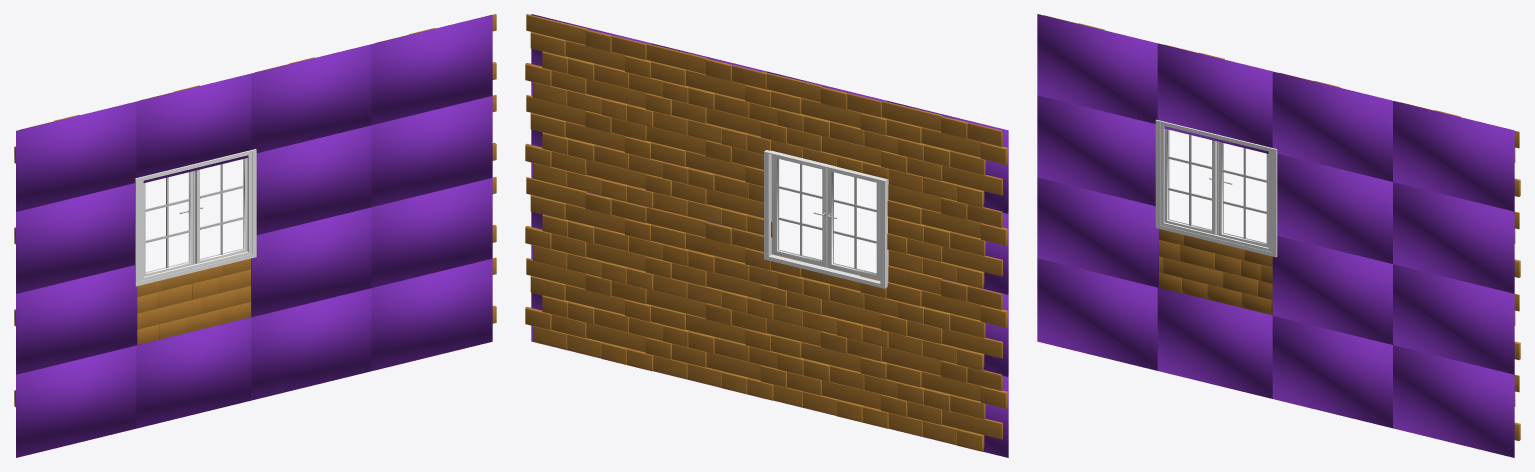
Rendered from wallwindow.fbx.
The picture shows the model from 3 angles, left to right: view 1: azimuth 30°, elevation 25°; view 2: azimuth 150°, elevation 25°; view 3: azimuth 330°, elevation 25°; orthographic projection.
Visible parts, largest first — view 1: Box085, Box085.001, Box085.003, Box085.008, Box085.012, Box085.004, Box085.015, Box085.013, Box085.007, Box085.011, Box085.002, Box085.005 (+8 smaller); view 2: 16639_12_Pane_Casement_Window-White_V1, Box085.015, Box085.003, Box072.013, Box085.007, Box072.012, Box072.015, Box072.004, Box072.005, Box085.011, Box081.007, Box081.003 (+142 smaller); view 3: Box085, Box085.003, Box085.001, Box085.008, Box085.012, Box085.004, Box085.015, Box085.013, Box085.007, Box085.011, Box085.002, Box085.005 (+8 smaller).
Part boxes in pixels (left/top/right/bottom): Box085: left=371, top=258, right=492, bottom=371; Box085.001: left=251, top=288, right=371, bottom=400; Box085.003: left=16, top=345, right=136, bottom=457; Box085.008: left=371, top=96, right=492, bottom=207; Box085.012: left=371, top=15, right=492, bottom=125; Box085.004: left=371, top=178, right=492, bottom=287; Box085.015: left=16, top=101, right=136, bottom=211; Box085.013: left=251, top=44, right=371, bottom=153; Box085.007: left=16, top=265, right=137, bottom=374; Box085.011: left=16, top=183, right=134, bottom=293; Box085.002: left=136, top=317, right=251, bottom=428; Box085.005: left=251, top=207, right=371, bottom=317; 16639_12_Pane_Casement_Window-White_V1: left=764, top=150, right=888, bottom=288; Box085.015: left=887, top=101, right=1008, bottom=213; Box085.003: left=889, top=375, right=1008, bottom=457; Box072.013: left=646, top=43, right=707, bottom=74; Box085.007: left=943, top=279, right=1008, bottom=376; Box072.012: left=526, top=14, right=586, bottom=44; Box072.015: left=882, top=101, right=942, bottom=131; Box072.004: left=526, top=177, right=586, bottom=207; Box072.005: left=646, top=207, right=706, bottom=237; Box085.011: left=944, top=212, right=1008, bottom=294; Box081.007: left=942, top=329, right=1002, bottom=358; Box081.003: left=942, top=409, right=1002, bottom=439; Box085: left=1393, top=345, right=1514, bottom=457; Box085.003: left=1037, top=258, right=1157, bottom=370; Box085.001: left=1272, top=316, right=1392, bottom=428; Box085.008: left=1393, top=182, right=1514, bottom=294; Box085.012: left=1393, top=101, right=1514, bottom=213; Box085.004: left=1393, top=264, right=1514, bottom=376; Box085.015: left=1037, top=14, right=1158, bottom=123; Box085.013: left=1272, top=72, right=1393, bottom=181; Box085.007: left=1037, top=177, right=1158, bottom=287; Box085.011: left=1037, top=95, right=1155, bottom=205; Box085.002: left=1157, top=287, right=1272, bottom=398; Box085.005: left=1272, top=236, right=1392, bottom=344.
Bounding box in the file's own units: 1258 × 817 × 25.48.
